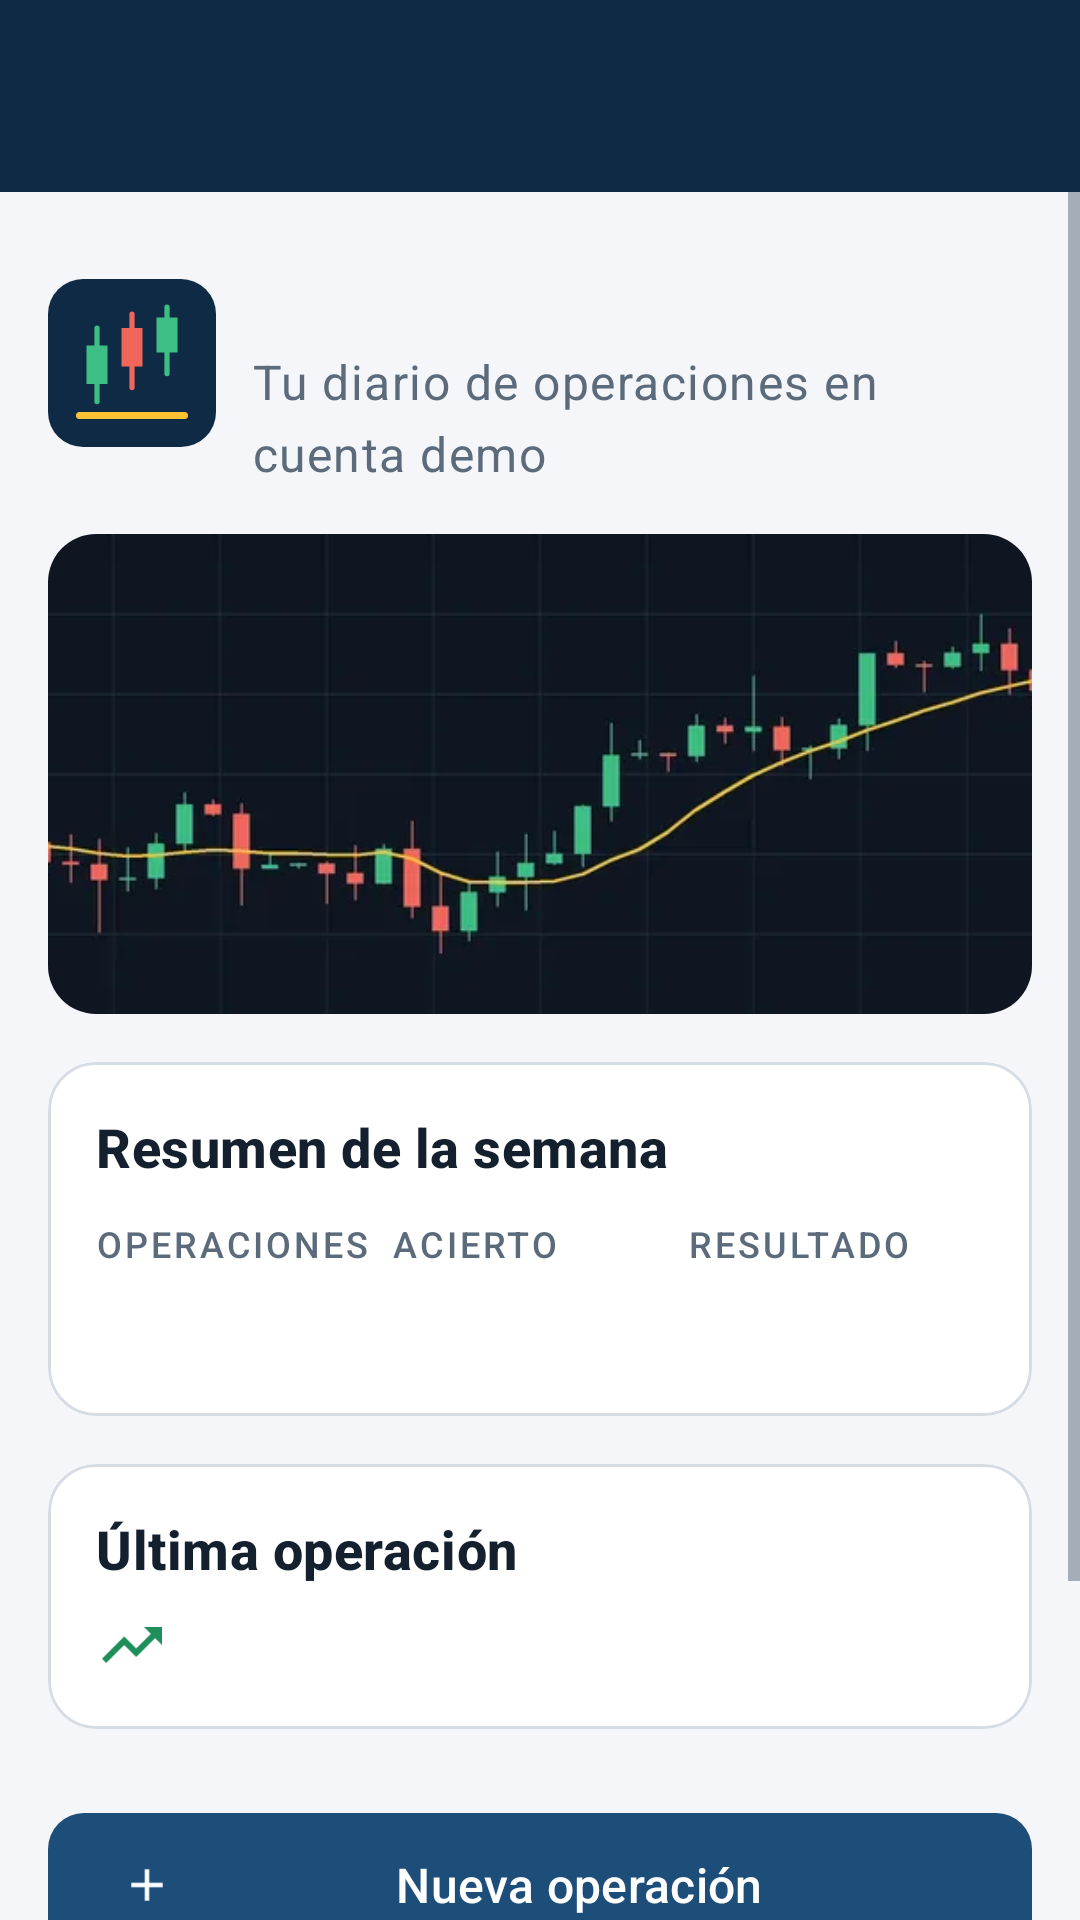

Named icons in this screenshot (1080px x 1920px) and their bounding boxes, (x1, y1, x2, y2):
tendencia: (102, 1627, 162, 1663)
